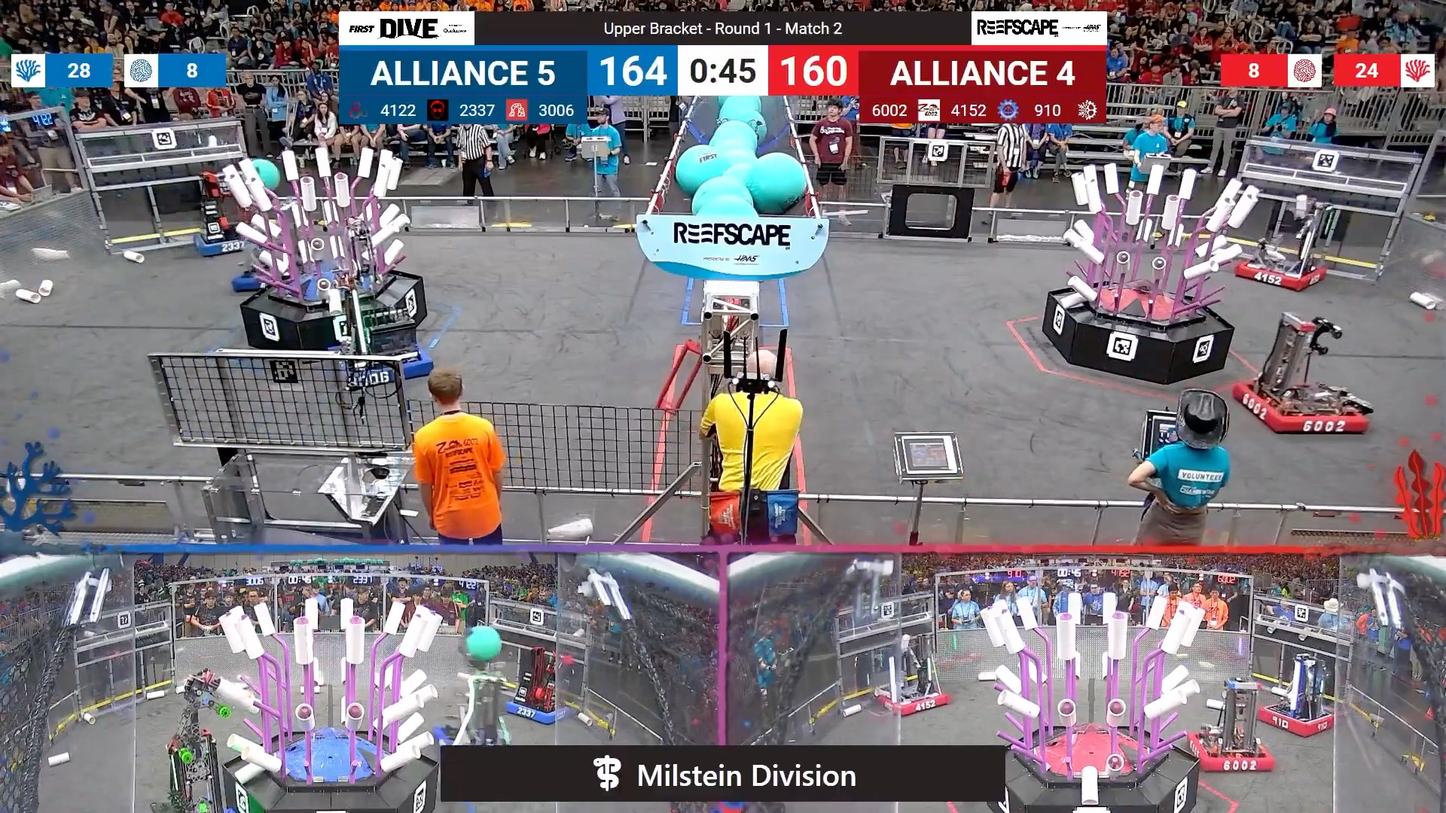bumpers: (1223, 379, 1375, 443), (326, 341, 438, 388), (1179, 729, 1279, 777), (1225, 256, 1334, 295), (1249, 699, 1345, 740), (499, 693, 577, 729), (874, 683, 955, 717), (225, 262, 294, 294), (190, 230, 262, 260)
